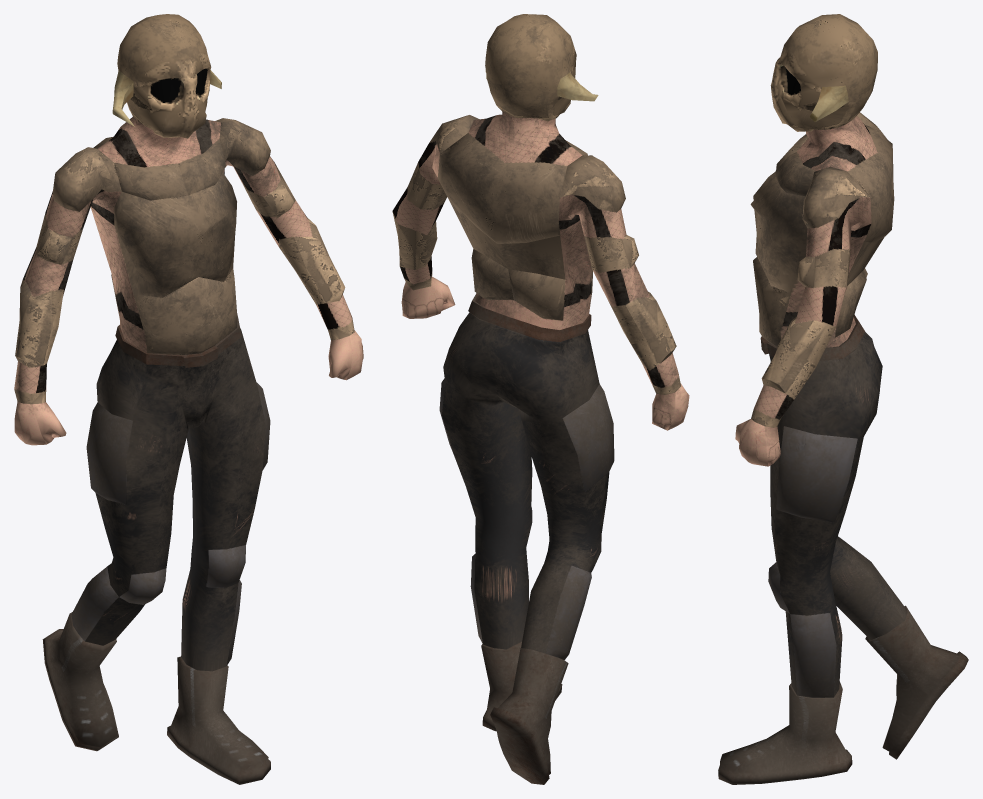
Rendered from Anim_andar_npc1.0036.obj.
The picture shows the model from 3 angles, left to right: view 1: azimuth 30°, elevation 25°; view 2: azimuth 150°, elevation 25°; view 3: azimuth 270°, elevation 25°; orthographic projection. The views are drawn at different scales.
Visible parts, largest first — view 1: Anim_andar_npc1; view 2: Anim_andar_npc1; view 3: Anim_andar_npc1.
Boxes of the visible parts, bbox=[...] form: Anim_andar_npc1: bbox=[14, 14, 363, 784]; Anim_andar_npc1: bbox=[392, 14, 689, 784]; Anim_andar_npc1: bbox=[718, 14, 968, 784].
Bounding box in the file's own units: 4.36 × 9.85 × 2.96.
